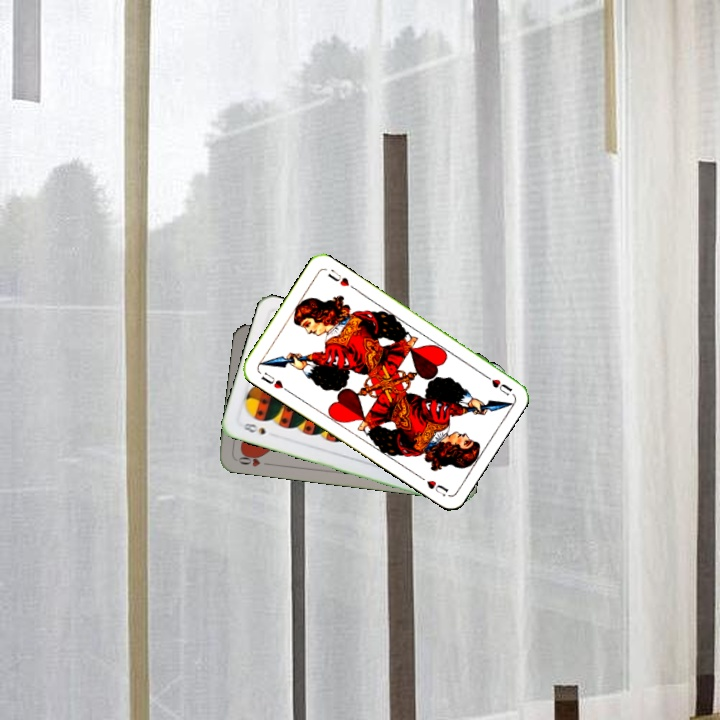HO: (234, 449, 273, 469)
HU: (479, 370, 515, 398), (257, 368, 291, 395)
S8: (239, 419, 268, 438)
